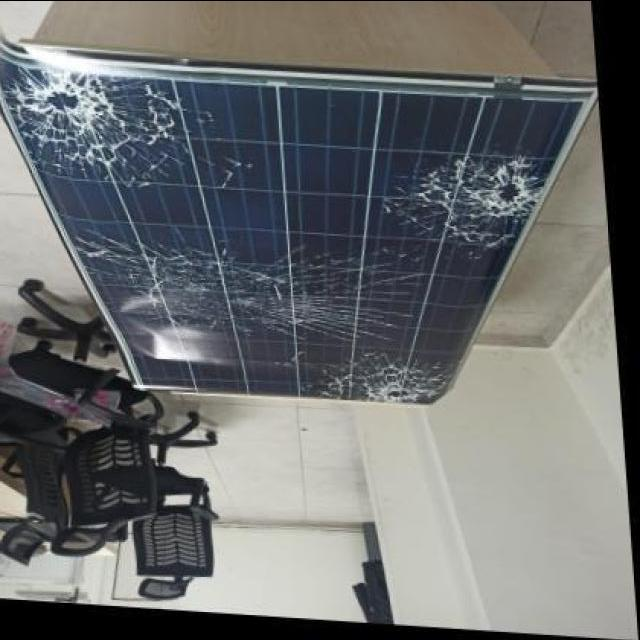cracked: (0, 51, 598, 407)
